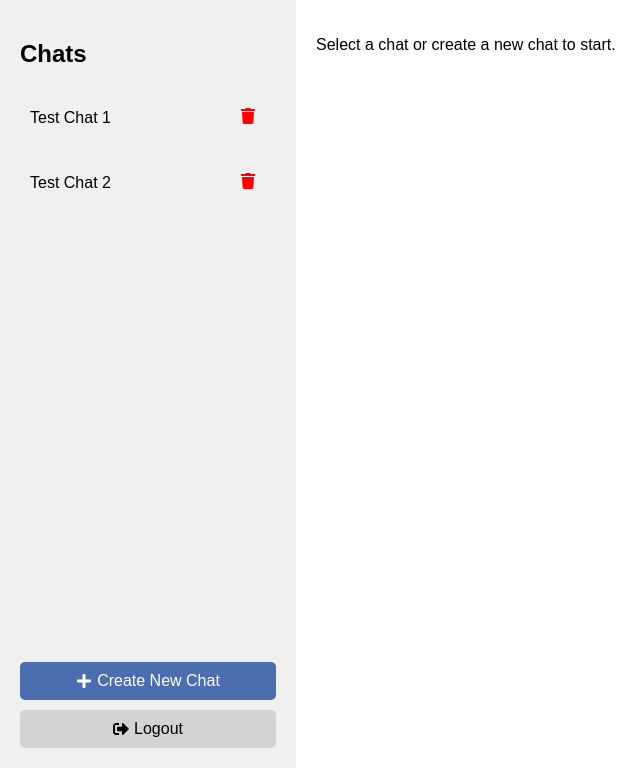
it: MainPage Component › deletes chat
The image size is (632, 768).
Click the button with test id "delete-1".
click(248, 118)  # box [230, 98, 266, 138]
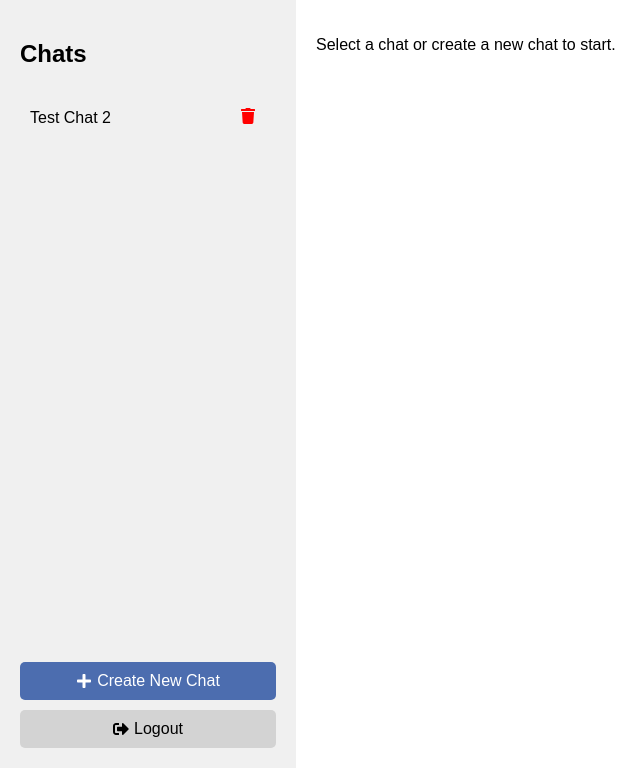
Expected: the text "Test Chat 1" is gone
